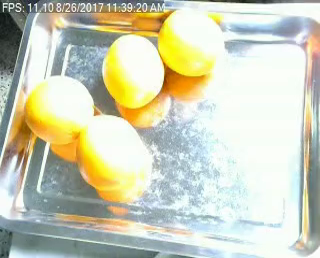Orange: (25, 76, 94, 145)
